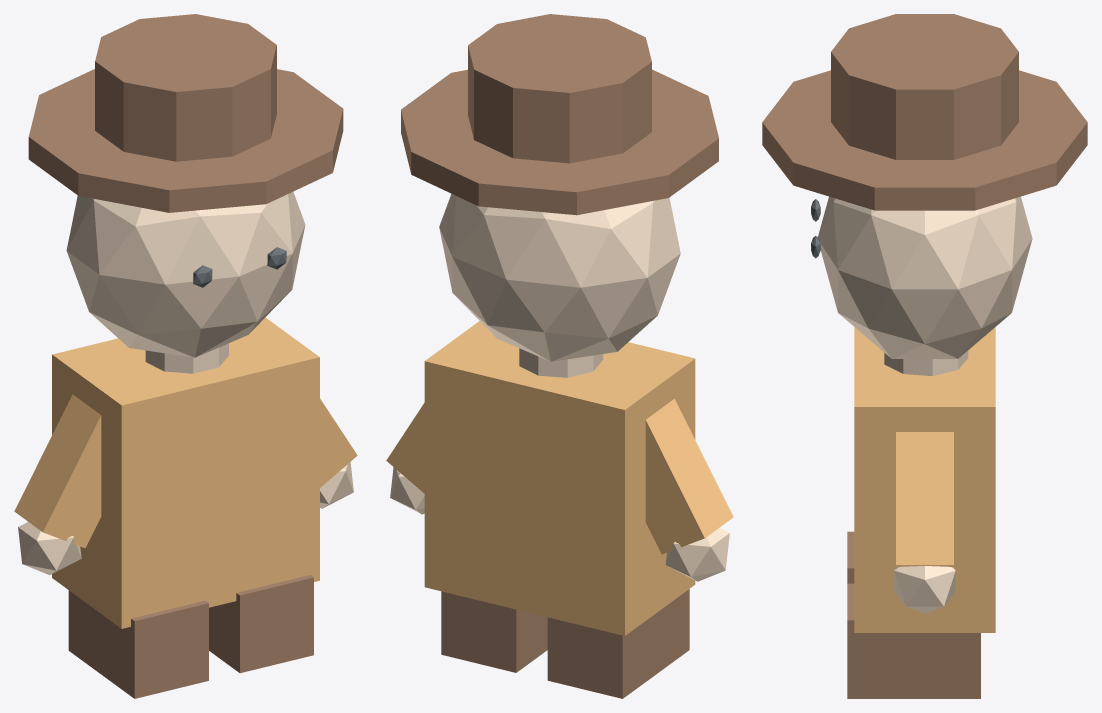
The model's file is guest_05.glb.
The picture shows the model from 3 angles, left to right: view 1: azimuth 30°, elevation 25°; view 2: azimuth 150°, elevation 25°; view 3: azimuth 270°, elevation 25°; orthographic projection.
Visible parts, largest first — view 1: short overalls.004, head.004, traveller hat crown, traveller hat brim, boot.008, arm.008, boot.009, hand.008, arm.009, round neck.004, hand.009; view 2: short overalls.004, head.004, traveller hat crown, traveller hat brim, boot.008, arm.008, boot.009, hand.008, arm.009, round neck.004, hand.009; view 3: short overalls.004, head.004, traveller hat crown, traveller hat brim, boot.009, arm.009, hand.009, round neck.004.
Part boxes in pixels (x1,y1,x2,y2): short overalls.004: (52,317,319,628); head.004: (66,192,305,357); traveller hat crown: (95,14,276,161); traveller hat brim: (28,69,343,212); boot.008: (68,590,208,698); arm.008: (14,394,101,548); boot.009: (209,575,313,673); hand.008: (18,522,81,575); arm.009: (320,398,357,487); round neck.004: (145,343,228,373); hand.009: (320,462,353,508); short overalls.004: (424,321,695,635); head.004: (439,193,680,361); traveller hat crown: (468,14,651,163); traveller hat brim: (401,69,718,215); boot.008: (547,589,689,698); arm.008: (645,399,733,554); boot.009: (441,591,547,672); hand.008: (665,527,729,581); arm.009: (386,403,424,493); round neck.004: (519,348,603,377); hand.009: (390,467,424,514); short overalls.004: (854,327,995,632); head.004: (818,196,1032,358); traveller hat crown: (831,14,1018,159); traveller hat brim: (762,70,1087,210); boot.009: (847,583,980,698); arm.009: (896,432,953,567); hand.009: (894,566,955,613); round neck.004: (884,350,968,376).
Bounding box in the file's own units: 1.06 × 1.84 × 0.9.
